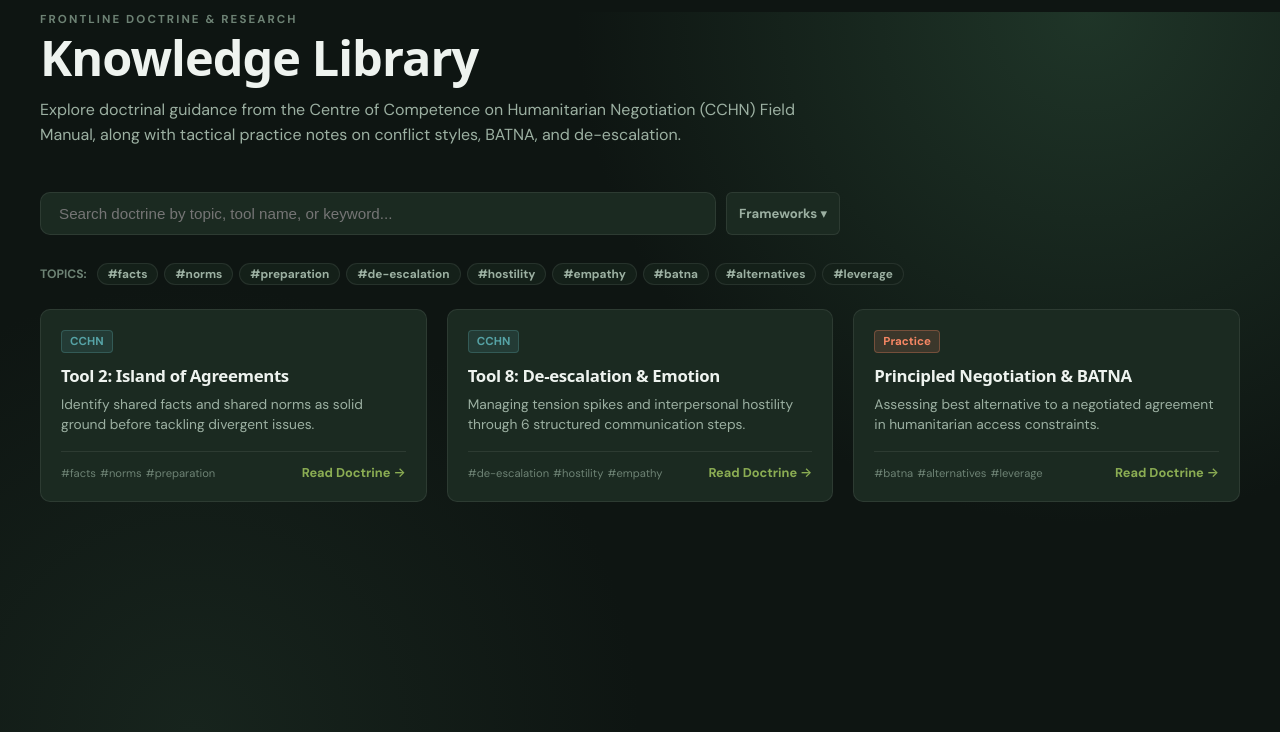
Scenario: KnowledgeLibrary › filters doctrine cards by clicking topic tags
The image size is (1280, 732).
Expected: the heading "Tool 2: Island of Agreements" is shown, [61, 364, 289, 387]
# Click #facts tag pill
Click the button "#facts": [128, 274] box [97, 263, 158, 285]
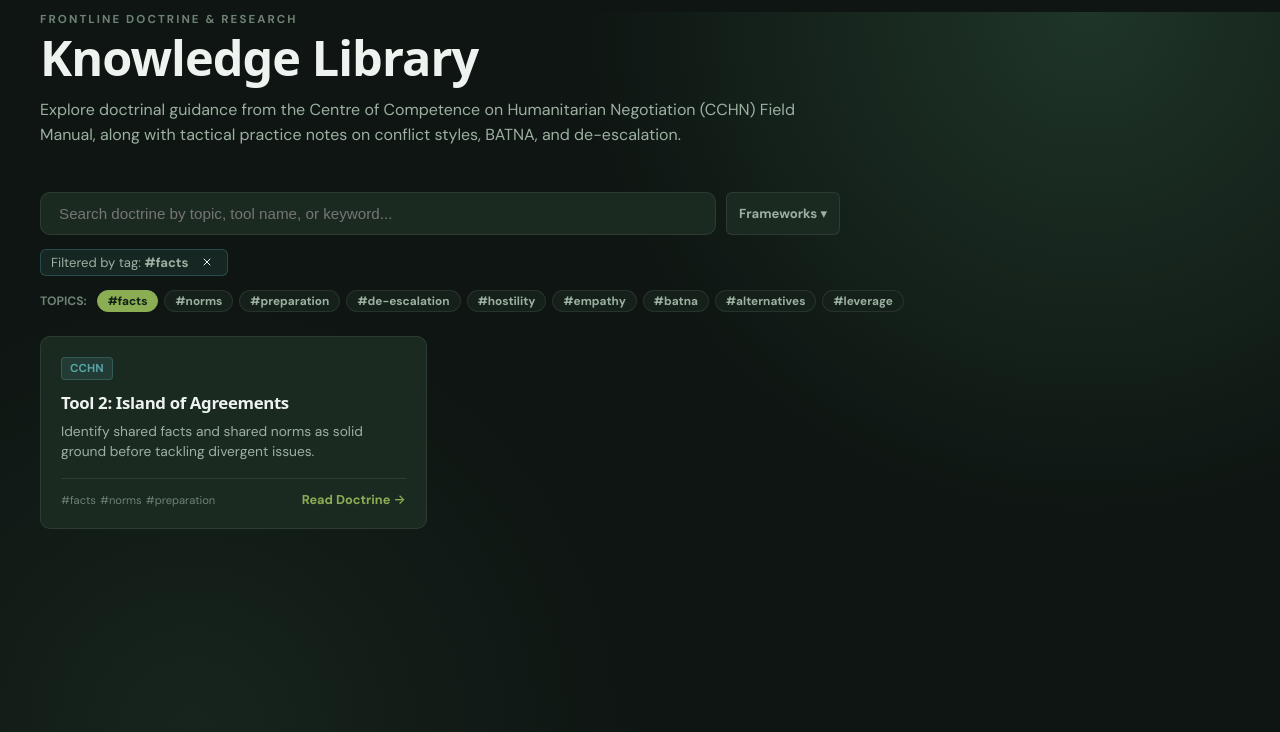
Expected: the heading "Tool 2: Island of Agreements" is shown, [61, 391, 289, 414]
Expected: the button "Tool 8: De-escalation & Emotion" is gone
Expected: the button "Principled Negotiation & BATNA" is gone
# Clear tag filter
Click the button named "Clear tag filter": [206, 262] box [196, 256, 216, 268]
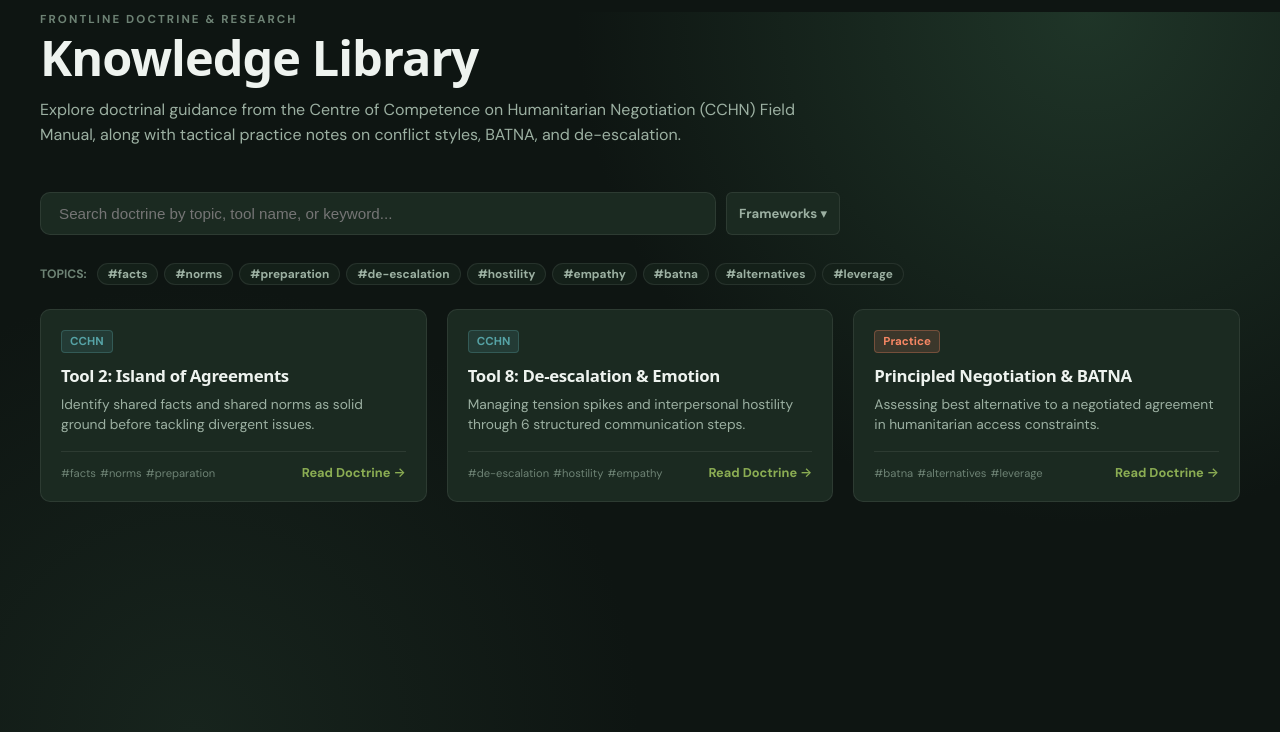
Expected: the heading "Tool 2: Island of Agreements" is shown, [61, 364, 289, 387]
Expected: the heading "Tool 8: De-escalation & Emotion" is shown, [468, 364, 720, 387]
